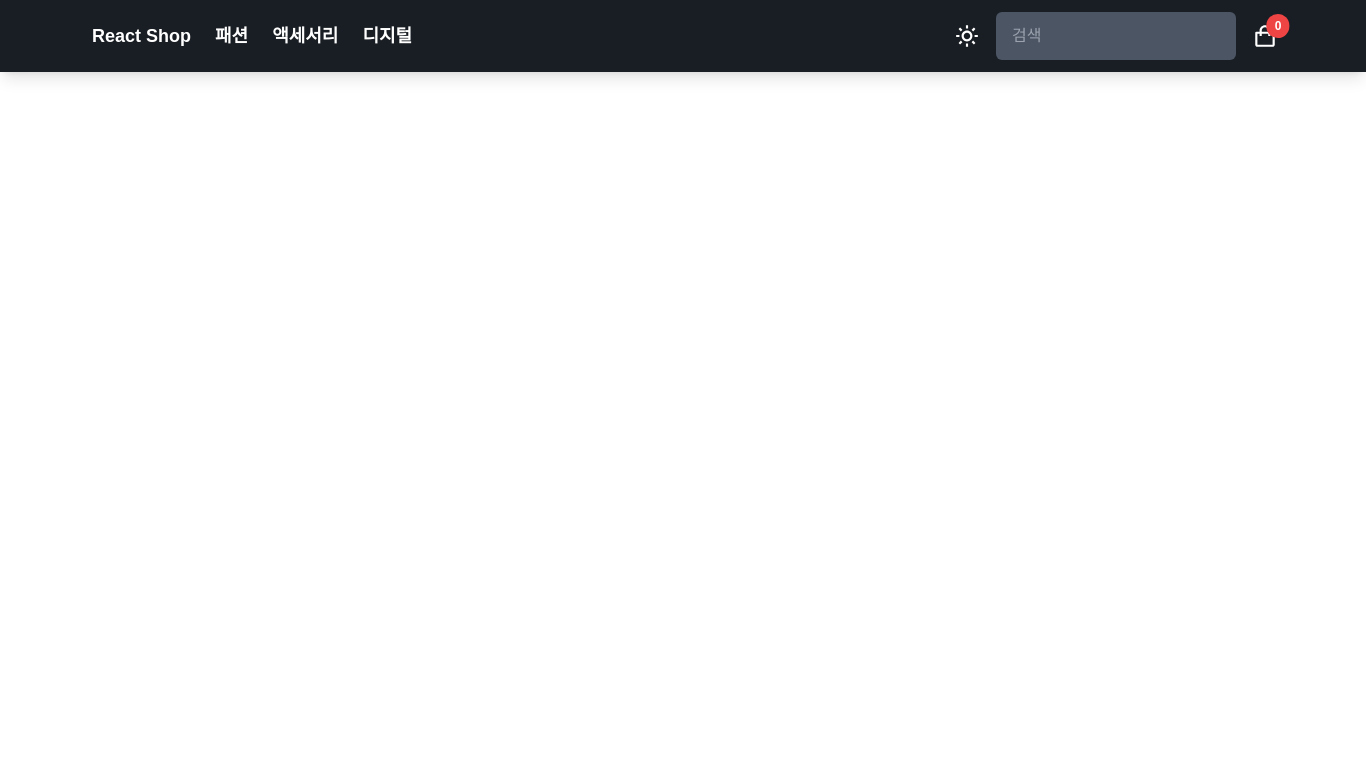
it: header 테스트 › 일반 Nav 패션 클릭시 정상적으로 라우팅이 작동하는가?
The image size is (1366, 762).
Click the link with test id "mainFashion": (232, 36) top-left (215, 26), bottom-right (248, 46)
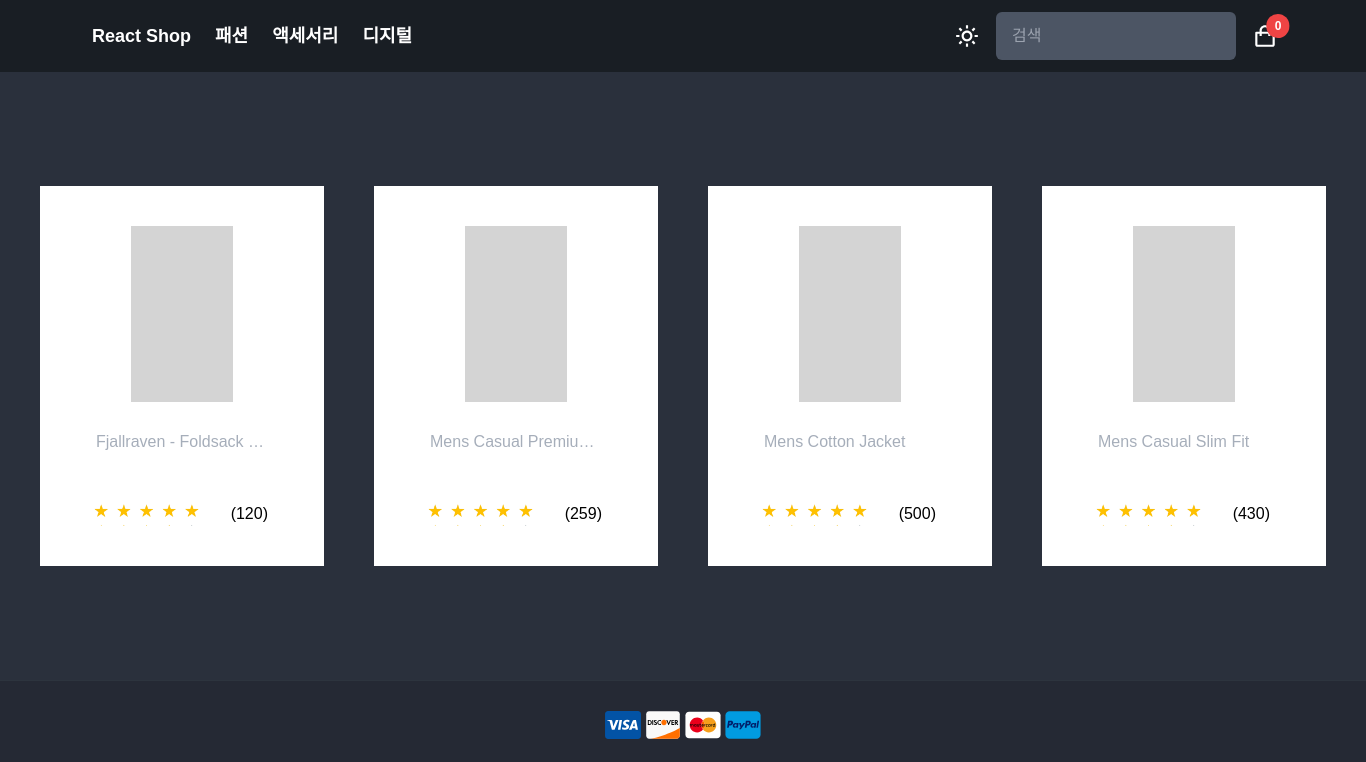
Check: the 1st element with test id "swiper" is shown
